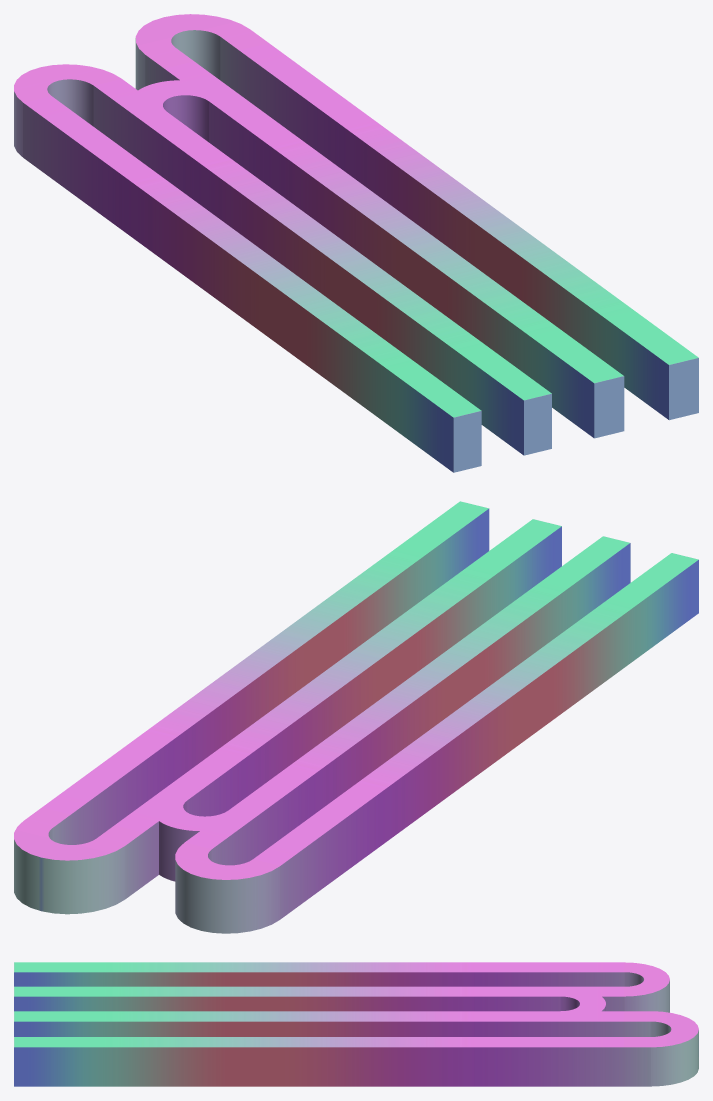
Rendered from Design_B.obj.
The picture shows the model from 3 angles, top to bottom: view 1: azimuth 30°, elevation 25°; view 2: azimuth 150°, elevation 25°; view 3: azimuth 270°, elevation 25°; orthographic projection. The views are drawn at different scales.
Parts seen in each view (by area): view 1: Design_B; view 2: Design_B; view 3: Design_B.
Boxes of the visible parts, left/top/right/bottom form: Design_B: left=14, top=14, right=698, bottom=472; Design_B: left=14, top=501, right=698, bottom=933; Design_B: left=14, top=962, right=698, bottom=1086.
Size of the model in its own units: 0.3725 by 0.08 by 1.27.
Materials: 1 (1 with a texture image).
